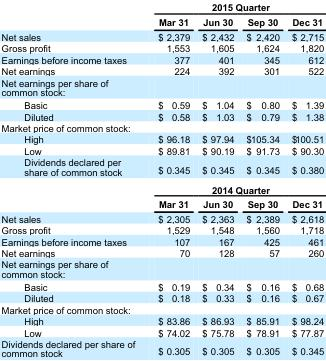table: (0, 1, 323, 358)
table column: (0, 1, 145, 358), (145, 1, 195, 358), (239, 1, 285, 358), (195, 1, 239, 358), (285, 1, 323, 358)
table column header: (0, 1, 323, 29)
table projected row header: (0, 76, 323, 98), (0, 258, 323, 280), (0, 303, 323, 315), (0, 122, 323, 133)
table row: (0, 156, 323, 180), (0, 76, 323, 98), (0, 258, 323, 280), (0, 337, 323, 358), (0, 180, 323, 196), (0, 14, 323, 29), (0, 196, 323, 211), (0, 1, 323, 14), (0, 29, 323, 42), (0, 211, 323, 224), (0, 53, 323, 65), (0, 98, 323, 110), (0, 110, 323, 122), (0, 144, 323, 156), (0, 235, 323, 247), (0, 280, 323, 292), (0, 303, 323, 315), (0, 42, 323, 53), (0, 65, 323, 76), (0, 122, 323, 133), (0, 133, 323, 144), (0, 224, 323, 235), (0, 247, 323, 258), (0, 292, 323, 303), (0, 315, 323, 326), (0, 326, 323, 337)
table spanning cell: (145, 180, 323, 196), (145, 1, 323, 14)
